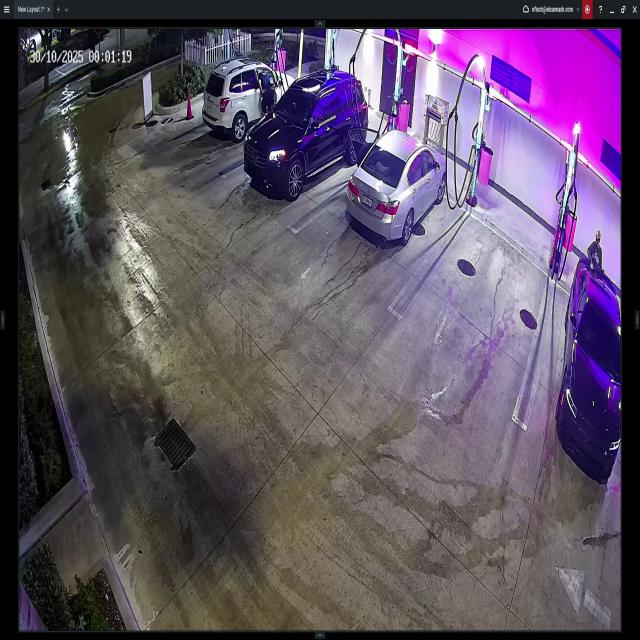Car: (245, 66, 366, 199), (557, 254, 620, 483), (347, 131, 446, 245), (203, 58, 295, 140)
